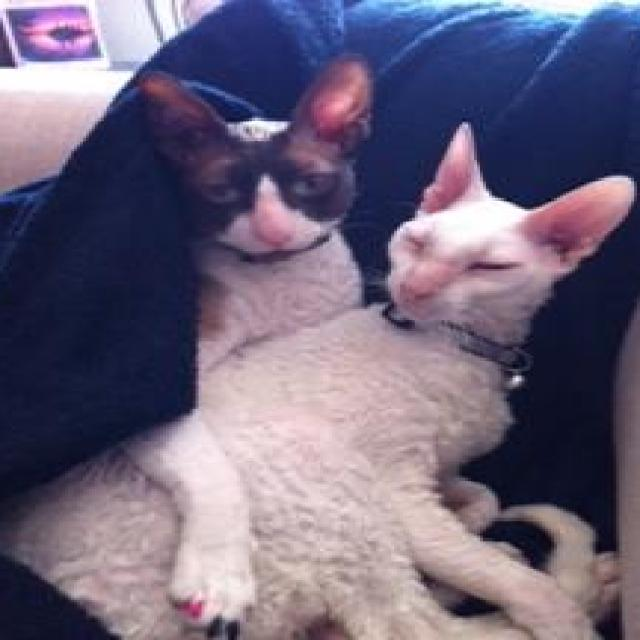Cornish Rex: (0, 118, 640, 640), (130, 44, 380, 640)
